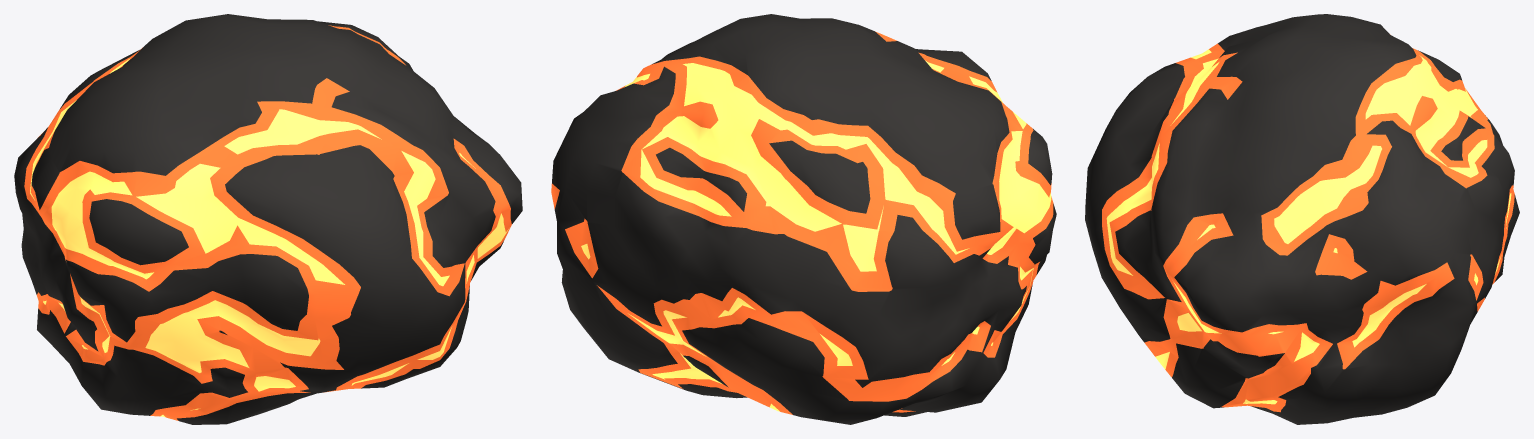
Rendered from bomb_0.glb.
The picture shows the model from 3 angles, left to right: view 1: azimuth 30°, elevation 25°; view 2: azimuth 150°, elevation 25°; view 3: azimuth 270°, elevation 25°; orthographic projection. The views are drawn at different scales.
Visible parts, largest first — view 1: bomb_0; view 2: bomb_0; view 3: bomb_0.
Part boxes in pixels (x1,y1,x2,y2): bomb_0: (14, 14, 522, 424); bomb_0: (551, 14, 1056, 424); bomb_0: (1085, 14, 1519, 424).
Size of the model in its own units: 0.6653 by 0.5223 by 0.6067.
